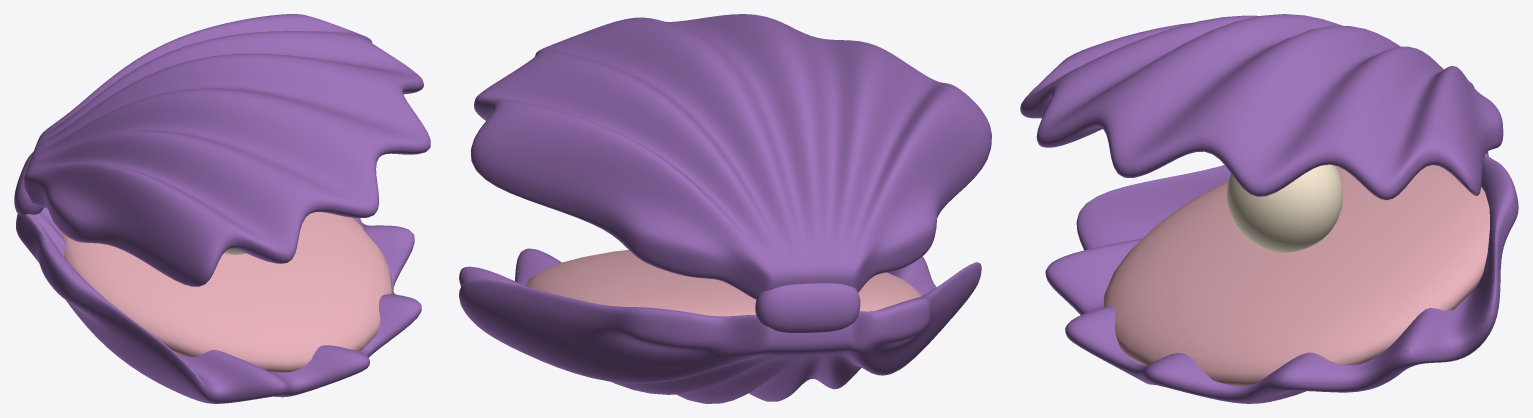
Rendered from Seashell.glb.
3 views of the same model, side by side, from view 1: azimuth 30°, elevation 25°; view 2: azimuth 150°, elevation 25°; view 3: azimuth 270°, elevation 25° (orthographic). The views are drawn at different scales.
Visible parts, largest first — view 1: Plane.002, Cube.011, Plane, Cube.012; view 2: Plane.002, Plane, Cube.011, Cube.012; view 3: Plane.002, Cube.011, Plane, Sphere.025.
Boxes of the visible parts, left/top/right/bottom form: Plane.002: left=24, top=14, right=430, bottom=286; Cube.011: left=61, top=212, right=392, bottom=372; Plane: left=16, top=207, right=421, bottom=403; Cube.012: left=14, top=152, right=43, bottom=215; Plane.002: left=470, top=14, right=991, bottom=299; Plane: left=459, top=248, right=981, bottom=403; Cube.011: left=525, top=250, right=921, bottom=316; Cube.012: left=755, top=283, right=860, bottom=332; Plane.002: left=1020, top=14, right=1503, bottom=200; Cube.011: left=1103, top=165, right=1489, bottom=386; Plane: left=1045, top=151, right=1518, bottom=403; Sphere.025: left=1227, top=164, right=1343, bottom=252.
Size of the model in its own units: 2.49 by 1.95 by 2.63.
